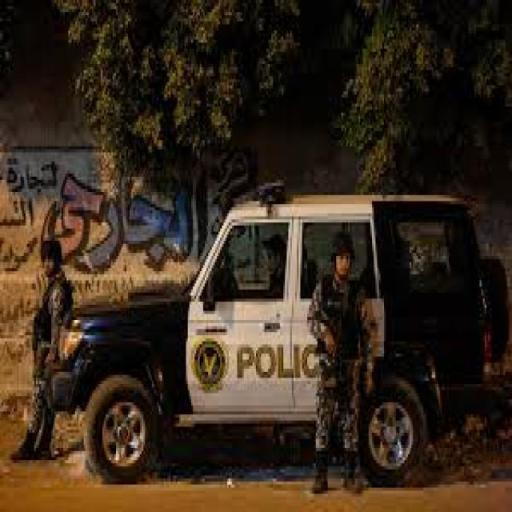Ambulance: (47, 182, 512, 484)
